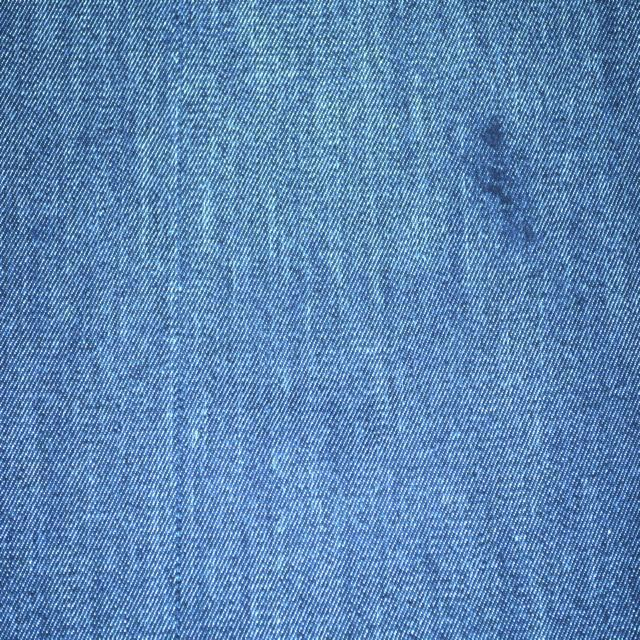stain: (463, 102, 544, 245)
